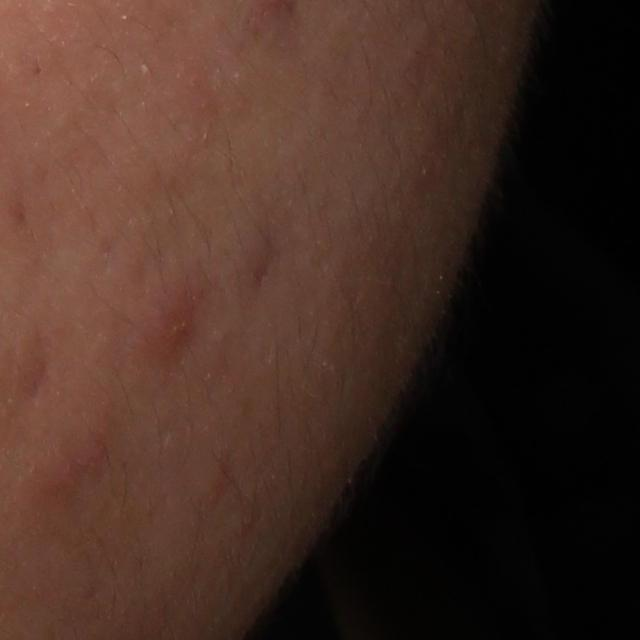papule: (147, 296, 195, 358)
